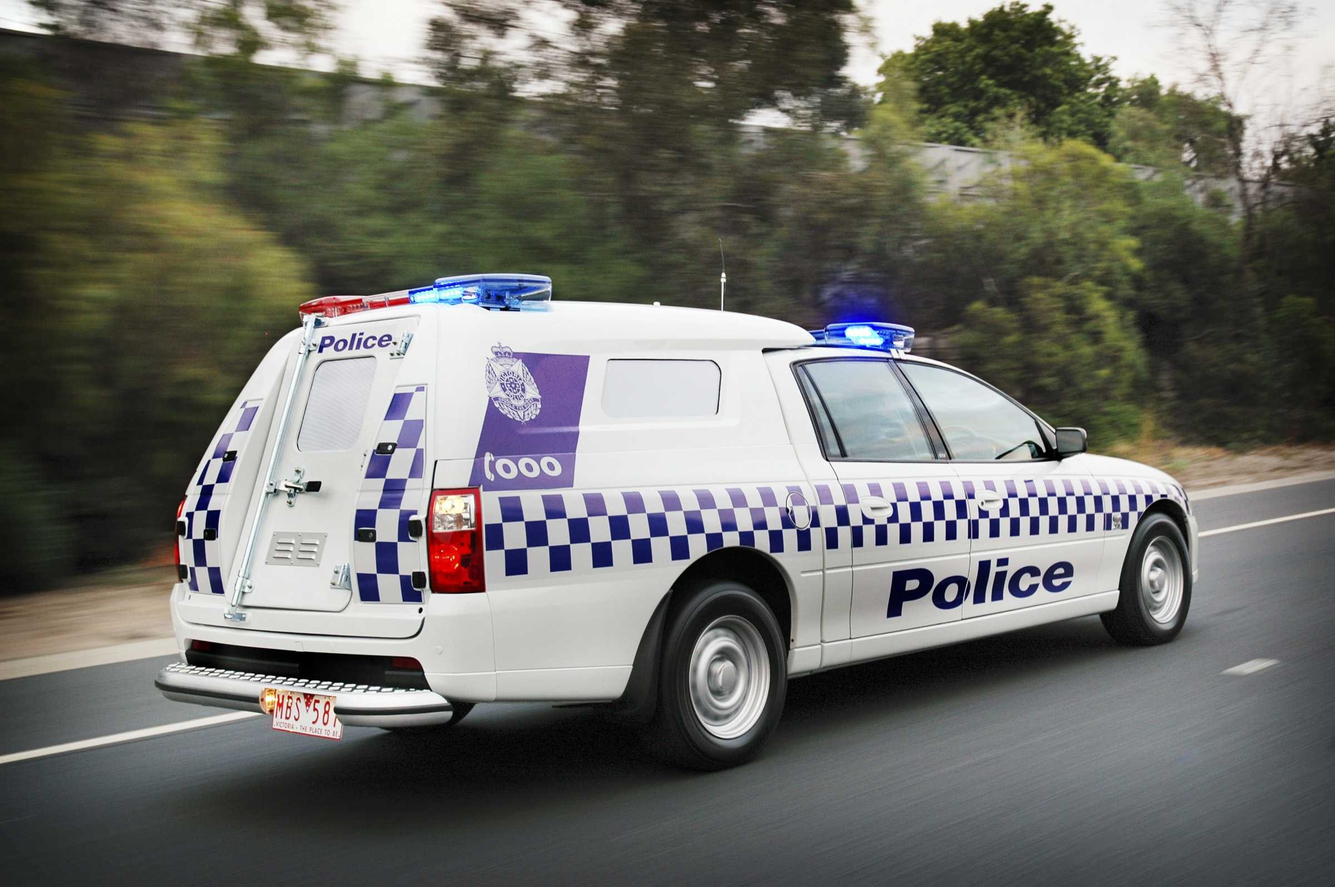Police Van: (127, 243, 1220, 778)
